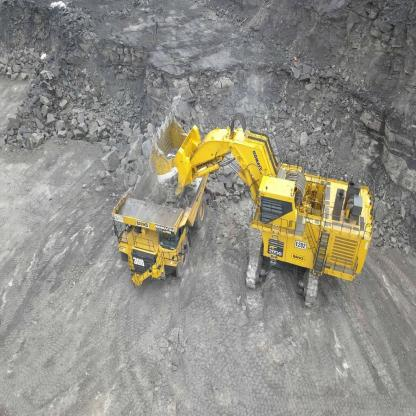dump_truck: (110, 132, 209, 296)
excavator: (148, 106, 381, 316)
